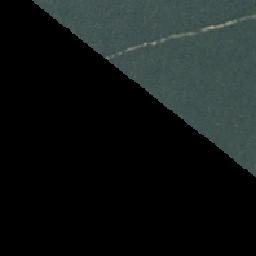debris: (169, 26, 217, 37), (216, 16, 256, 27), (127, 40, 169, 49), (104, 49, 126, 57)
